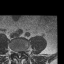CCS_normal: (18, 50, 20, 59)
LFS_severe_stenosis: (23, 49, 25, 55)
LLS_severe_stenosis: (20, 50, 23, 57)
RFS_stenosis: (13, 48, 15, 55)
RLS_stenosis: (15, 49, 18, 56)
